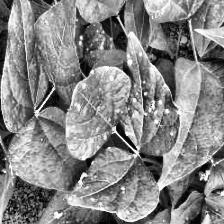Bean Rust: (62, 147, 161, 222), (122, 31, 181, 156), (62, 65, 130, 159), (195, 15, 224, 89), (71, 22, 114, 64)
